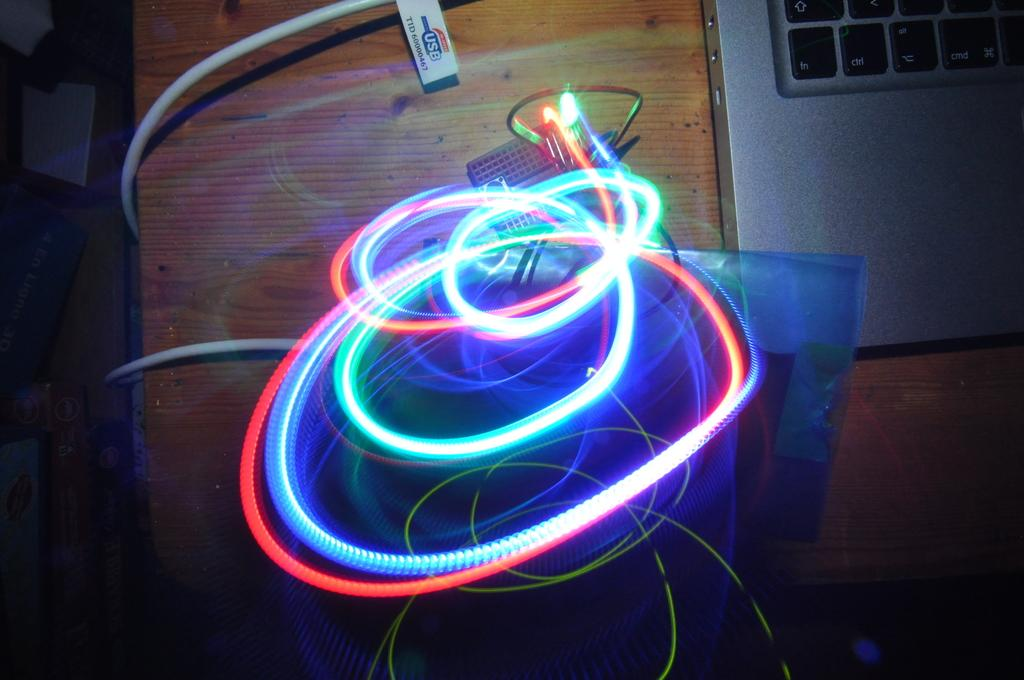Laptop: (701, 0, 1023, 366)
